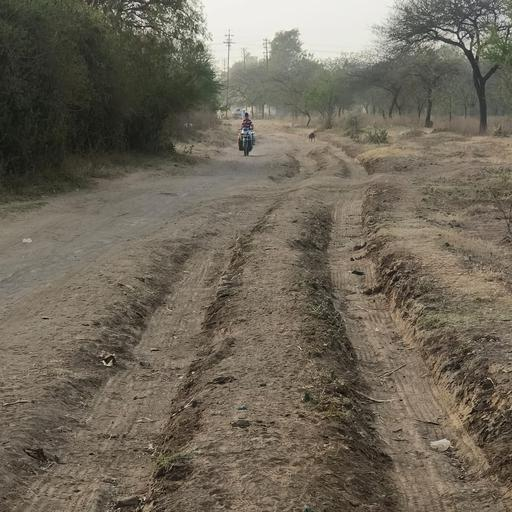vehicle_track: (4, 197, 277, 512), (330, 182, 512, 512), (0, 155, 267, 307)
